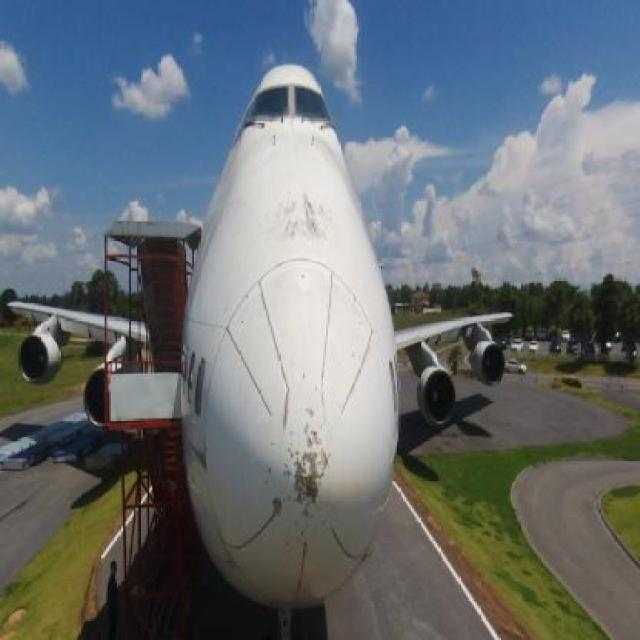Rust: (289, 456, 333, 524)
Scartch: (254, 400, 360, 568), (264, 175, 359, 276), (192, 433, 218, 487)
